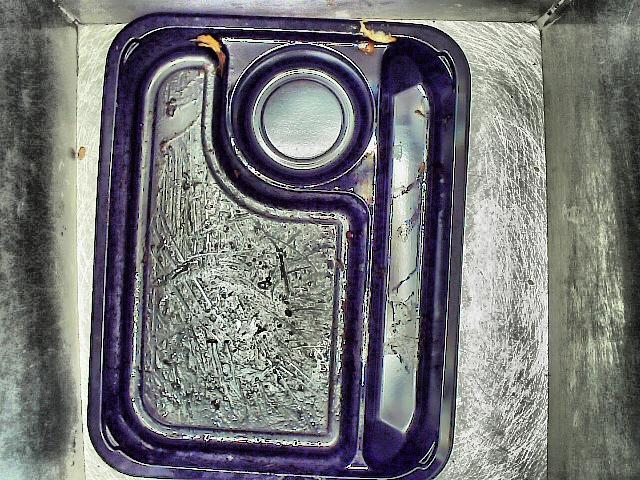Plastic: (71, 3, 476, 480)
